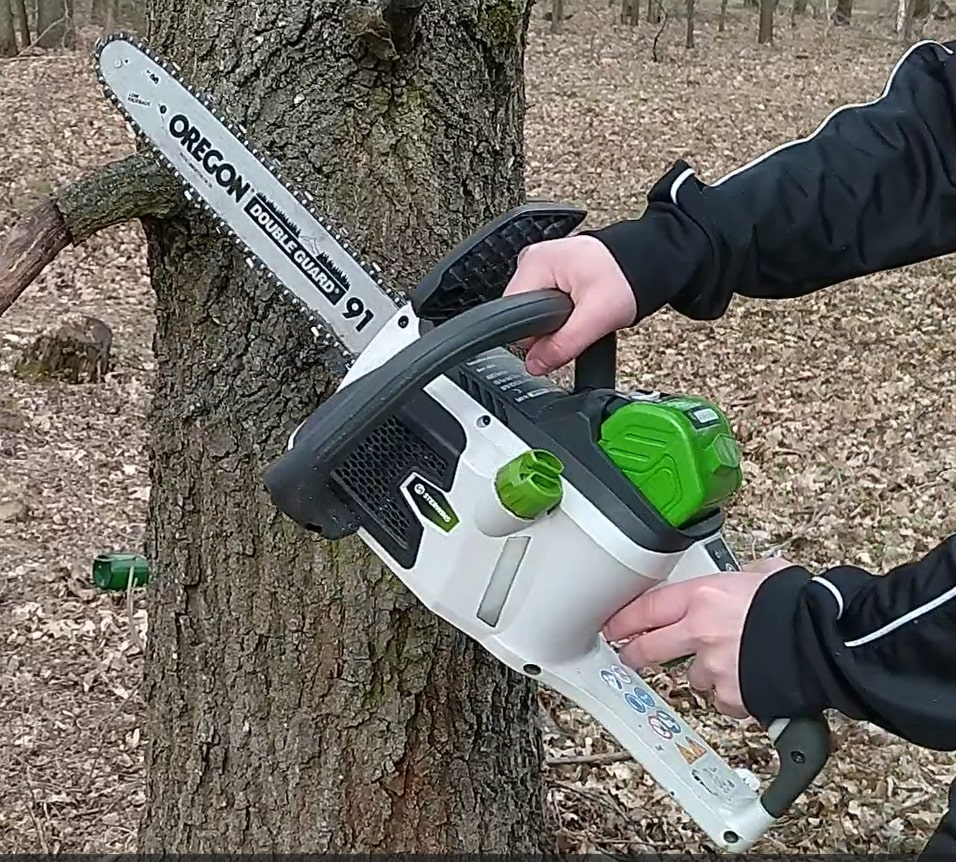chainsaw: (74, 20, 858, 861)
